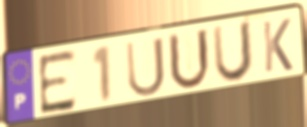1: (90, 43, 112, 107)
E: (36, 47, 78, 118)
K: (260, 16, 295, 75)
U: (166, 27, 213, 93), (211, 18, 254, 85), (124, 35, 168, 100)
